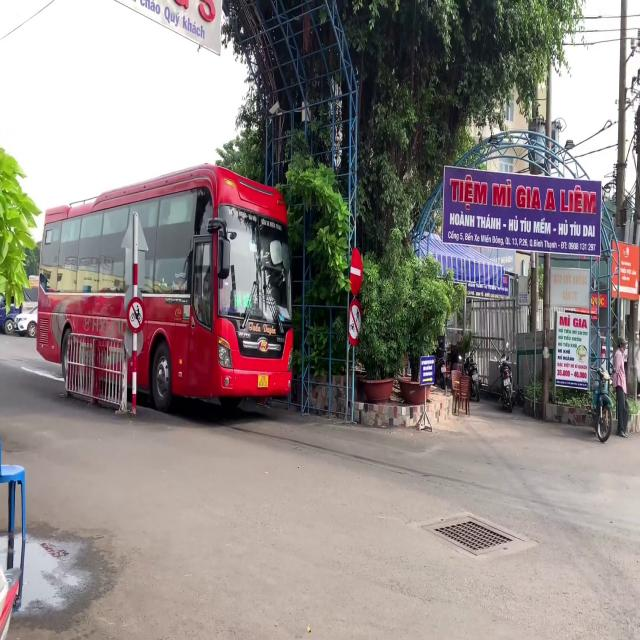bien_vang: (258, 374, 268, 388)
